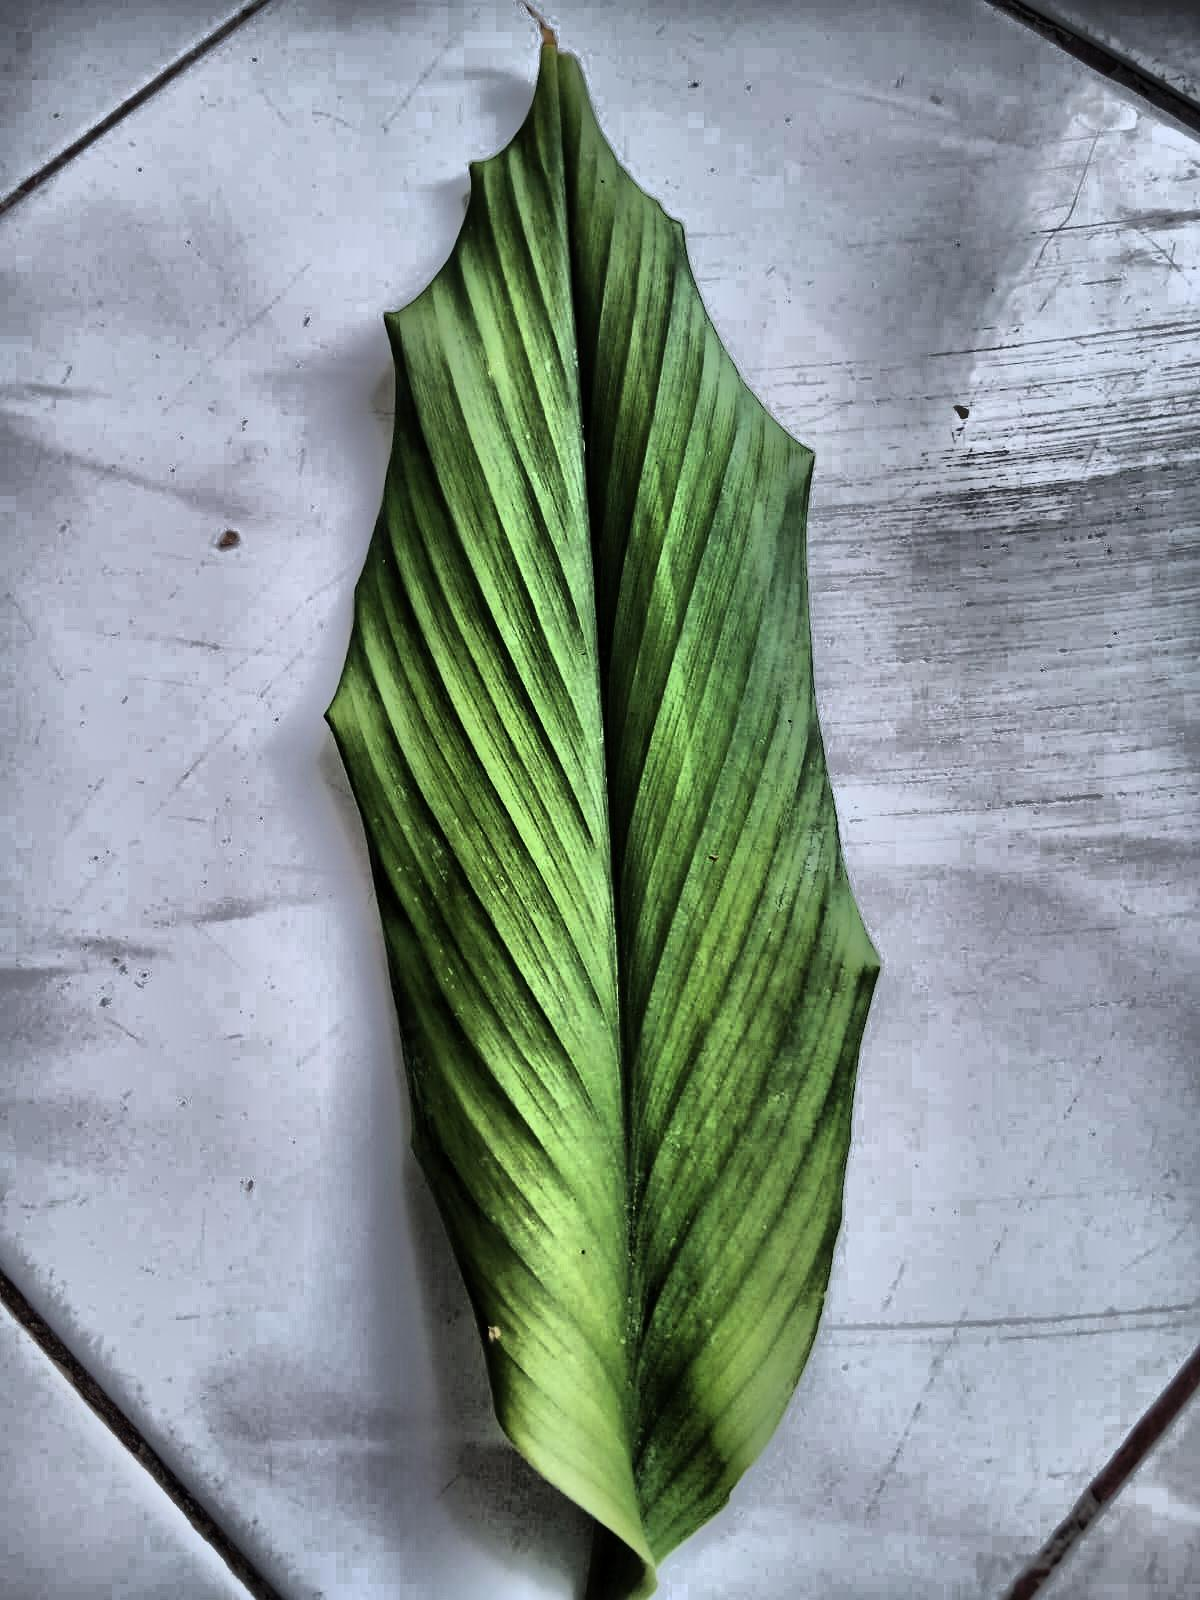daun kunyit: (328, 35, 879, 1599)
